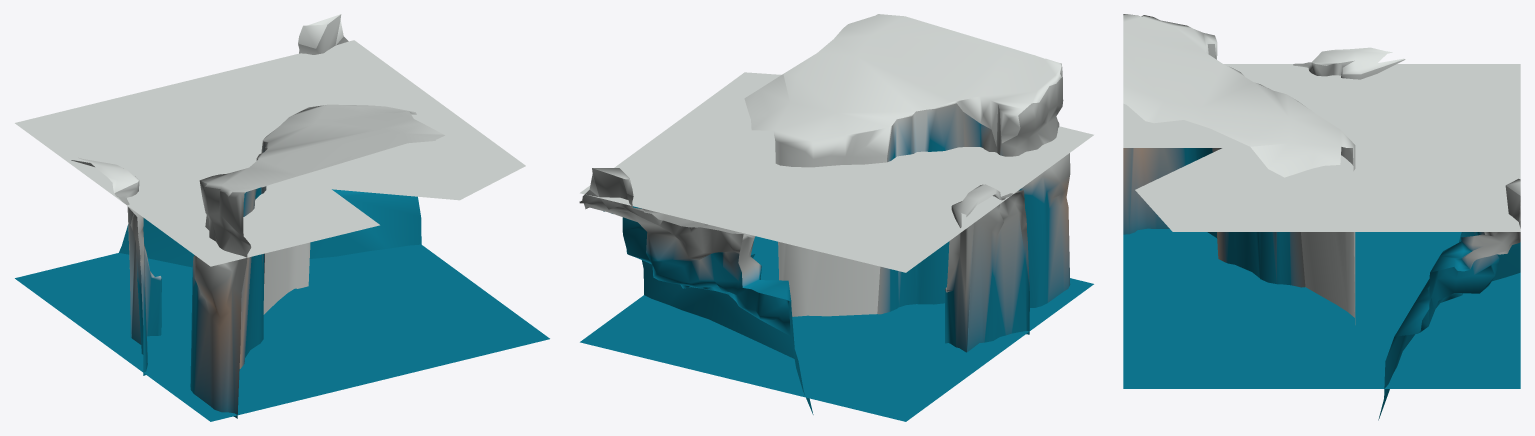
3 views of the same model, side by side, from view 1: azimuth 30°, elevation 25°; view 2: azimuth 150°, elevation 25°; view 3: azimuth 270°, elevation 25° (orthographic). The views are drawn at different scales.
Visible parts, largest first — view 1: G:\FFXIV-MapTools\exports\s1f6\bg\ffxiv\sea_s1\fld\s1f6\bgpl (×12); view 2: G:\FFXIV-MapTools\exports\s1f6\bg\ffxiv\sea_s1\fld\s1f6\bgpl (×13); view 3: G:\FFXIV-MapTools\exports\s1f6\bg\ffxiv\sea_s1\fld\s1f6\bgpl (×11).
Boxes of the visible parts, x1=… form: G:\FFXIV-MapTools\exports\s1f6\bg\ffxiv\sea_s1\fld\s1f6\bgpl (×12): x1=15, y1=14, x2=549, y2=421; G:\FFXIV-MapTools\exports\s1f6\bg\ffxiv\sea_s1\fld\s1f6\bgpl (×13): x1=579, y1=14, x2=1093, y2=421; G:\FFXIV-MapTools\exports\s1f6\bg\ffxiv\sea_s1\fld\s1f6\bgpl (×11): x1=1123, y1=14, x2=1520, y2=420.
Bounding box in the file's own units: 128 × 94.7 × 128.
